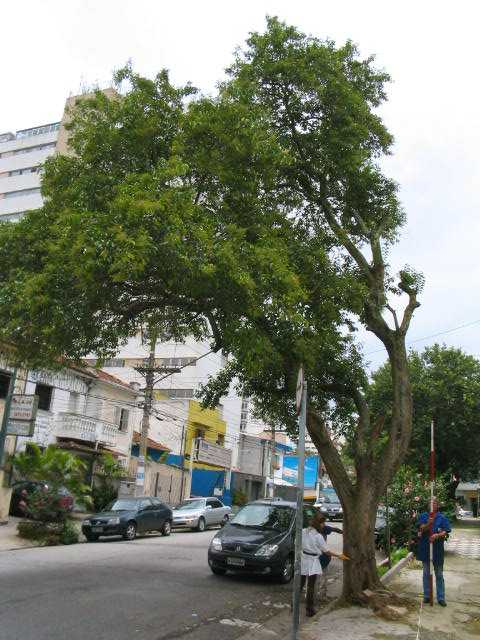crown: (5, 17, 420, 416)
stem: (329, 500, 391, 603)
stick: (423, 421, 439, 605)
tree: (3, 15, 421, 604)
